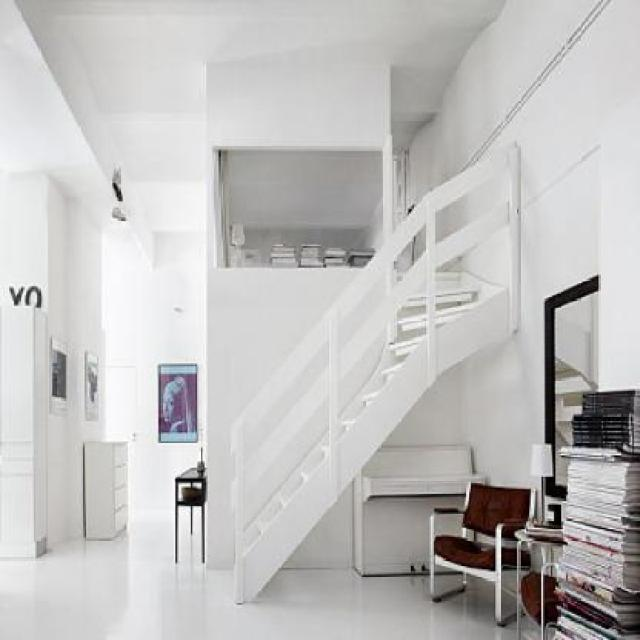stair: (206, 136, 525, 627)
